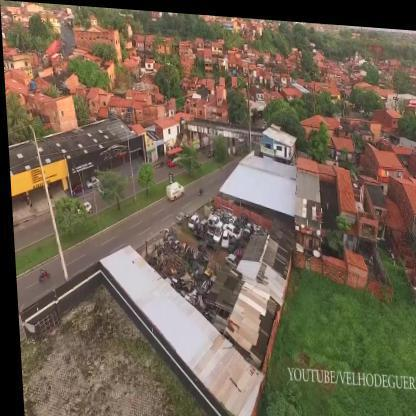lixo: (157, 241, 214, 293), (191, 200, 248, 249)
